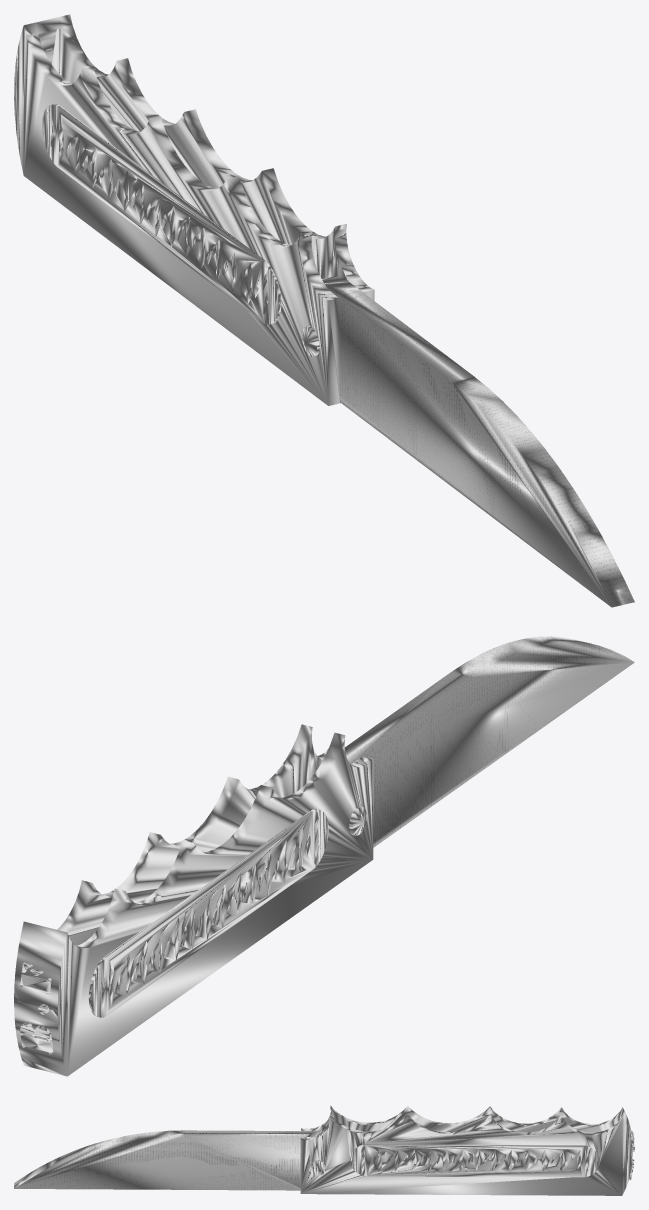
The model's file is model_align.obj.
The picture shows the model from 3 angles, top to bottom: view 1: azimuth 30°, elevation 25°; view 2: azimuth 150°, elevation 25°; view 3: azimuth 270°, elevation 25°; orthographic projection. The views are drawn at different scales.
Size of the model in its own units: 0.0125 by 0.0283 by 0.2051.
